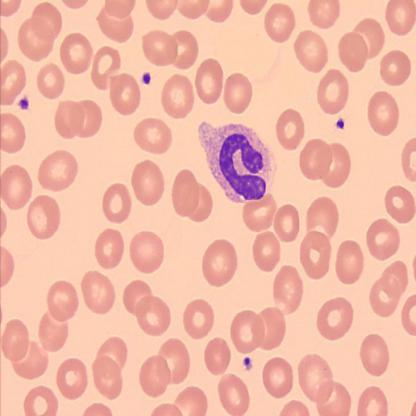Band Neutrophil: (197, 119, 276, 205)
